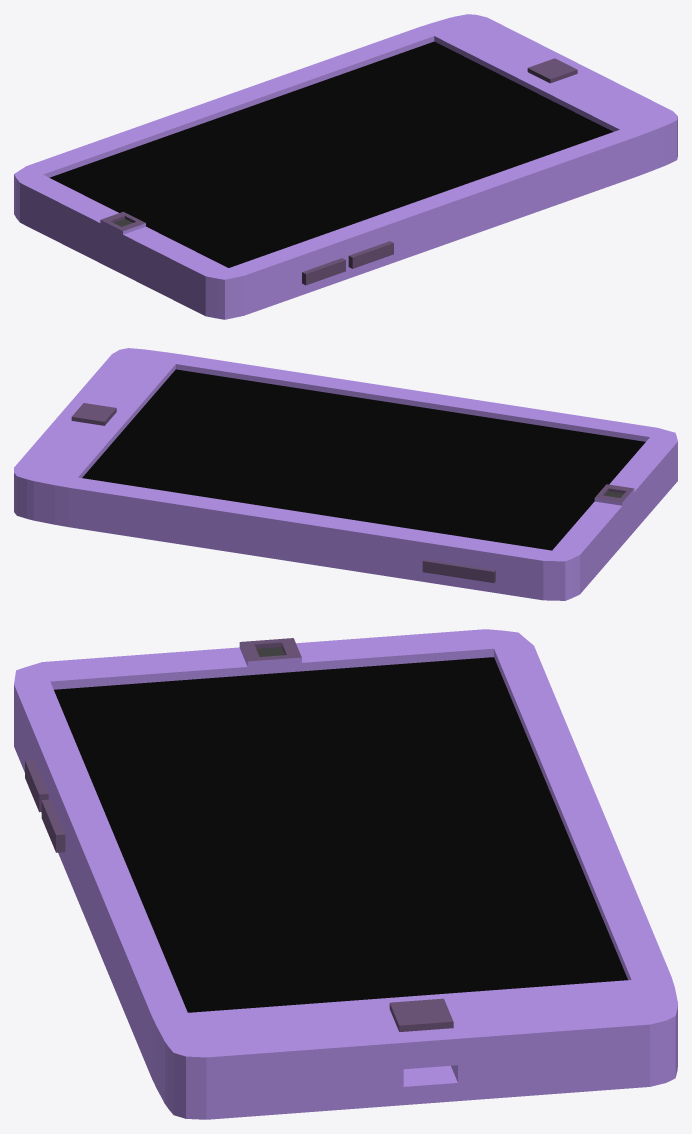
Rendered from Phone.fbx.
The picture shows the model from 3 angles, top to bottom: view 1: azimuth 30°, elevation 25°; view 2: azimuth 150°, elevation 25°; view 3: azimuth 270°, elevation 25°; orthographic projection. The views are drawn at different scales.
Parts seen in each view (by area): view 1: Cellphone; view 2: Cellphone; view 3: Cellphone.
Part boxes in pixels (x1,y1,x2,y2): Cellphone: [14, 14, 677, 319]; Cellphone: [14, 348, 677, 600]; Cellphone: [14, 629, 677, 1119].
Bounding box in the file's own units: 102 × 7.61 × 66.58.
